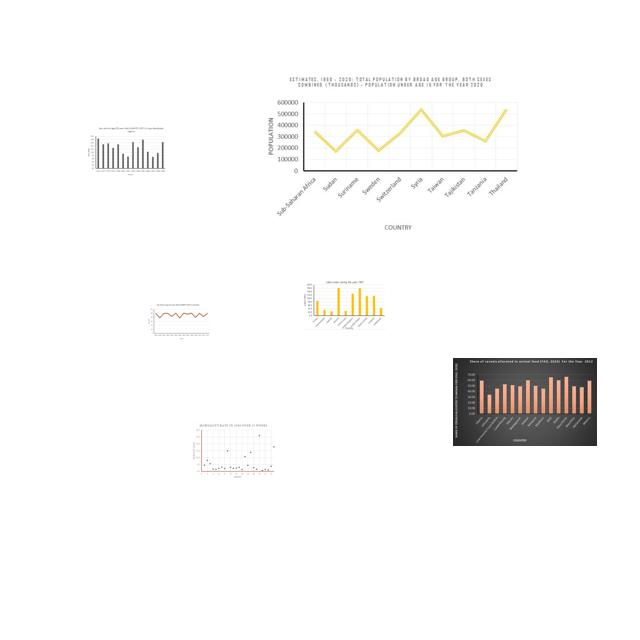Graph: (259, 73, 522, 231), (453, 358, 597, 446), (192, 422, 276, 480), (303, 280, 386, 330), (85, 126, 167, 176), (146, 303, 213, 341)
